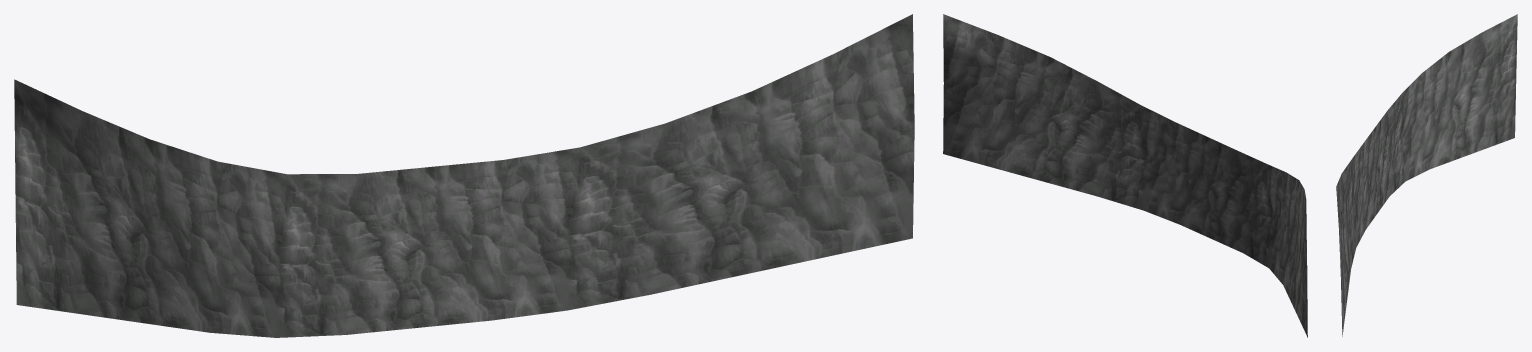
File: SWORDLIGHT20_PS-AREA04_01.fbx
3 renders of one model, left to right at view 1: azimuth 30°, elevation 25°; view 2: azimuth 150°, elevation 25°; view 3: azimuth 270°, elevation 25°, orthographic. The views are drawn at different scales.
Visible parts, largest first — view 1: SWORDLIGHT20_PS-AREA04_01; view 2: SWORDLIGHT20_PS-AREA04_01; view 3: SWORDLIGHT20_PS-AREA04_01.
Boxes of the visible parts, bbox=[...] form: SWORDLIGHT20_PS-AREA04_01: bbox=[14, 14, 914, 337]; SWORDLIGHT20_PS-AREA04_01: bbox=[943, 14, 1307, 337]; SWORDLIGHT20_PS-AREA04_01: bbox=[1336, 14, 1517, 336].
Size of the model in its own units: 129871 by 37603 by 49791.
Materials: 1 (1 with a texture image).
